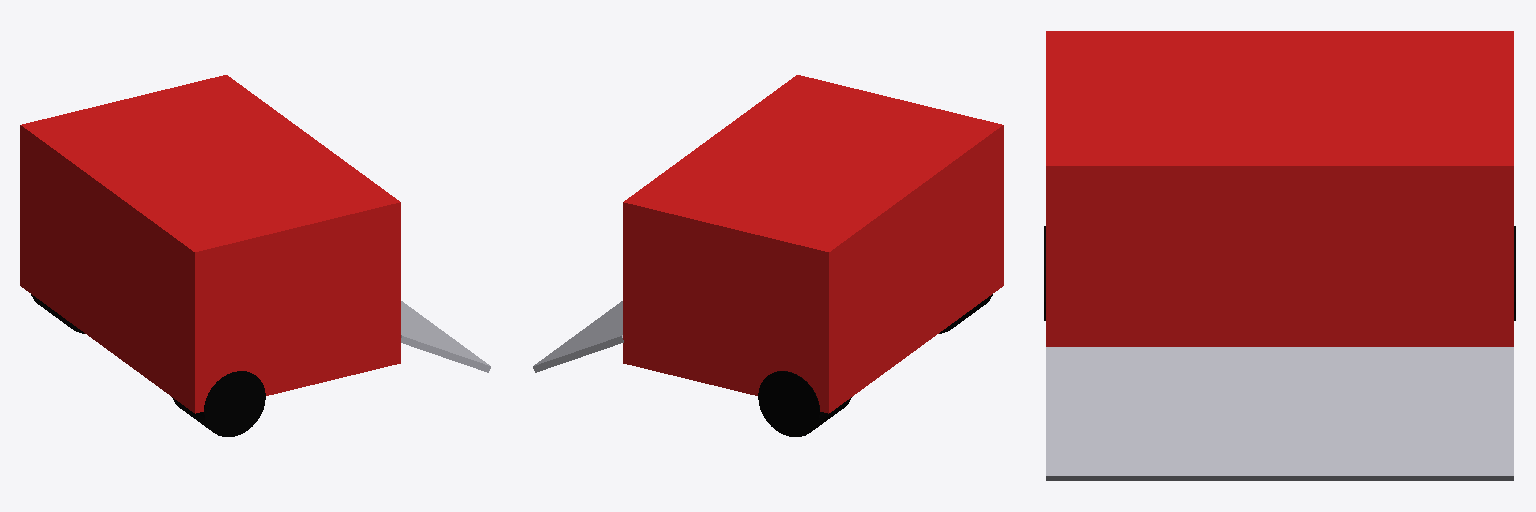
URDF robot description (mini_sumo):
<?xml version="1.0"?>
<!--
  Mini Sumo agent — 400 RPM CAD upgrade with rear line sensors.

  Frame convention:
    base_link origin sits at the centre of the 95.81 × 98 mm footprint,
    on the floor plane. +X is forward, +Y is left, +Z is up.

  Outer dimensions:
    Total length (X) : 95.81 mm  ( front +0.0479, rear -0.0479 )
    Total width  (Y) : 98 mm     ( ±0.049 )
    Total height (Z) : 60 mm
    Chassis box      : 66.9 × 98 × 50 mm  ( -0.0479 ≤ x ≤ +0.019,
                                            z ∈ [0.010, 0.060] )
                       Bottom lifted from z=0 to z=0.010 so the wheels
                       (axle z=0.010, r=0.010, bottom z=0) are the sole
                       ground contact. Chassis has 10 mm of clearance
                       over the wheel-bottom plane.
    Wedge            : 28.82 mm long, slope 0.4 mm tip → 16.6 mm trailing

  Mass / CoM:
    Total                    : 0.45 kg
    CoM (relative to origin) : x = -0.0001 m  (48 mm behind front tip)
                                y = 0
                                z = 0.007 m   (7 mm above floor)

  Wheels:
    Diameter 20 mm (r=0.010), width 19 mm. Track width 79.5 mm
    (axles at y = ±0.03975). Axle z = 0.010, wheel bottom z = 0;
    chassis box bottom sits 10 mm above the wheel-bottom plane so
    the wheels are the only ground contact. Mounted near the rear
    at x = -0.035.

  Line sensors: two QTR mounts at the rear of the chassis bottom face
    (x = -0.02384, y = ±0.0404). These are sampled in sumo_env.py;
    the URDF doesn't model them physically.
-->
<robot name="mini_sumo">

  <!-- ======================== CHASSIS ======================== -->
  <link name="base_link">
    <inertial>
      <!-- CoM 48 mm behind the front tip (= +0.0479 - 0.048 = -0.0001)
           and 7 mm above the floor; mass 0.45 kg. -->
      <origin xyz="-0.0001 0.0 0.007" rpy="0 0 0"/>
      <mass value="0.45"/>
      <!-- Box principal moments at 0.45 kg, dims 0.0669 × 0.098 × 0.050:
           Ixx = (m/12)*(W^2 + H^2) = 4.54e-4
           Iyy = (m/12)*(L^2 + H^2) = 2.62e-4
           Izz = (m/12)*(L^2 + W^2) = 5.28e-4 -->
      <inertia ixx="4.54e-4" ixy="0" ixz="0"
               iyy="2.62e-4" iyz="0"
               izz="5.28e-4"/>
    </inertial>

    <visual>
      <!-- Chassis box centred between the rear face (-0.0479) and the
           wedge boundary (+0.019) -> centre x = -0.01445. Bottom at
           z = 0.010 (10 mm above the wheel-bottom plane) so the wheels
           are the sole ground contact; top stays at z = 0.060. -->
      <origin xyz="-0.01445 0.0 0.035" rpy="0 0 0"/>
      <geometry>
        <box size="0.0669 0.098 0.050"/>
      </geometry>
      <material name="red">
        <color rgba="0.85 0.15 0.15 1.0"/>
      </material>
    </visual>

    <collision>
      <origin xyz="-0.01445 0.0 0.035" rpy="0 0 0"/>
      <geometry>
        <box size="0.0669 0.098 0.050"/>
      </geometry>
    </collision>
  </link>

  <!-- ============== FRONT CASTER (invisible slider) ========== -->
  <link name="front_caster">
    <inertial>
      <origin xyz="0 0 0" rpy="0 0 0"/>
      <mass value="0.001"/>
      <inertia ixx="1e-9" ixy="0" ixz="0"
               iyy="1e-9" iyz="0"
               izz="1e-9"/>
    </inertial>
    <collision>
      <origin xyz="0 0 0" rpy="0 0 0"/>
      <geometry>
        <sphere radius="0.003"/>
      </geometry>
    </collision>
    <contact>
      <lateral_friction value="0.0"/>
      <rolling_friction value="0.0"/>
      <spinning_friction value="0.0"/>
    </contact>
  </link>

  <joint name="front_caster_joint" type="fixed">
    <parent link="base_link"/>
    <child  link="front_caster"/>
    <!-- Just behind the wedge mount, under the chassis bottom edge so
         the chassis nose can't snag if it tips forward. -->
    <origin xyz="0.015 0.0 0.003" rpy="0 0 0"/>
  </joint>

  <!-- ====================== NOSE WEDGE ======================= -->
  <!-- Slab geometry (in body frame):
         trailing edge (top, joins chassis) : x = +0.019,   z ≈ 0.0166
         leading edge (sharp tip)           : x = +0.0479,  z ≈ 0.0004
         slope length  = sqrt(28.82^2 + 16.2^2) = 33.13 mm
         pitch (about Y) = atan2(16.2, 28.82) = 0.5113 rad (~29.3 deg) -->
  <link name="nose_wedge">
    <inertial>
      <origin xyz="0 0 0" rpy="0 0 0"/>
      <mass value="0.02"/>
      <!-- Slab inertia for box (0.03313 × 0.098 × 0.002), m=0.02.
           Iyy bumped from computed 1.8e-6 to 2.5e-6 to give margin
           under PyBullet's strict triangle inequality. -->
      <inertia ixx="1.612e-5" ixy="0" ixz="0"
               iyy="2.5e-6"   iyz="0"
               izz="1.834e-5"/>
    </inertial>

    <visual>
      <origin xyz="0 0 0" rpy="0 0 0"/>
      <geometry>
        <!-- slope-length × chassis-width × thin -->
        <box size="0.03313 0.098 0.002"/>
      </geometry>
      <material name="silver">
        <color rgba="0.75 0.75 0.78 1.0"/>
      </material>
    </visual>

    <collision>
      <origin xyz="0 0 0" rpy="0 0 0"/>
      <geometry>
        <box size="0.03313 0.098 0.002"/>
      </geometry>
    </collision>

    <contact>
      <!-- Run-7 fix: bumped 0.3 -> 0.7. The previous "slick face" rationale
           ("slide under, don't grab") was wrong: low friction means the
           agent's wedge slides up over the opponent without transmitting
           horizontal push, so its momentum carries it off the dohyo
           (test_full_charge.py at torque_mult=0.7 produced 72% self-outs).
           0.7 matches typical machined-aluminum-on-aluminum coefficient
           and is symmetric with novamax.urdf for fair contests. -->
      <lateral_friction value="0.7"/>
    </contact>
  </link>

  <joint name="nose_wedge_joint" type="fixed">
    <parent link="base_link"/>
    <child  link="nose_wedge"/>
    <!-- Slab centre at the midpoint of trailing and leading edges, rotated
         so its long axis runs down-slope. Origin z = 0.0094 places the
         leading-edge bottom corner at z ≈ 0.0004 (the spec'd lowest Z). -->
    <origin xyz="0.03345 0.0 0.0094" rpy="0 0.5113 0"/>
  </joint>

  <!-- ===================== LEFT WHEEL ======================== -->
  <link name="left_wheel">
    <inertial>
      <origin xyz="0 0 0" rpy="0 0 0"/>
      <mass value="0.025"/>
      <!-- Cylinder, r=0.010, h=0.019, axis along link +Y after the
           90 deg roll:
             Iyy (rolling)        = 0.5*m*r^2                = 1.25e-6
             Ixx = Izz            = (m/12)*(3*r^2 + h^2)     = 1.378e-6 -->
      <inertia ixx="1.378e-6" ixy="0" ixz="0"
               iyy="1.25e-6"  iyz="0"
               izz="1.378e-6"/>
    </inertial>

    <visual>
      <origin xyz="0 0 0" rpy="1.5708 0 0"/>
      <geometry>
        <cylinder radius="0.010" length="0.019"/>
      </geometry>
      <material name="black">
        <color rgba="0.05 0.05 0.05 1.0"/>
      </material>
    </visual>

    <collision>
      <origin xyz="0 0 0" rpy="1.5708 0 0"/>
      <geometry>
        <cylinder radius="0.010" length="0.019"/>
      </geometry>
    </collision>

    <contact>
      <lateral_friction value="1.0"/>
    </contact>
  </link>

  <joint name="left_wheel_joint" type="continuous">
    <parent link="base_link"/>
    <child  link="left_wheel"/>
    <!-- Axle 35 mm behind centre, +39.75 mm to the left, 10 mm above
         floor so the chassis rides very low. -->
    <origin xyz="-0.035 0.03975 0.010" rpy="0 0 0"/>
    <axis xyz="0 1 0"/>
  </joint>

  <!-- ===================== RIGHT WHEEL ======================= -->
  <link name="right_wheel">
    <inertial>
      <origin xyz="0 0 0" rpy="0 0 0"/>
      <mass value="0.025"/>
      <inertia ixx="1.378e-6" ixy="0" ixz="0"
               iyy="1.25e-6"  iyz="0"
               izz="1.378e-6"/>
    </inertial>

    <visual>
      <origin xyz="0 0 0" rpy="1.5708 0 0"/>
      <geometry>
        <cylinder radius="0.010" length="0.019"/>
      </geometry>
      <material name="black"/>
    </visual>

    <collision>
      <origin xyz="0 0 0" rpy="1.5708 0 0"/>
      <geometry>
        <cylinder radius="0.010" length="0.019"/>
      </geometry>
    </collision>

    <contact>
      <lateral_friction value="1.0"/>
    </contact>
  </link>

  <joint name="right_wheel_joint" type="continuous">
    <parent link="base_link"/>
    <child  link="right_wheel"/>
    <origin xyz="-0.035 -0.03975 0.010" rpy="0 0 0"/>
    <axis xyz="0 1 0"/>
  </joint>

</robot>

--- Render facts (derived) ---
The picture shows the robot from 3 angles, left to right: view 1: azimuth 30°, elevation 25°; view 2: azimuth 150°, elevation 25°; view 3: azimuth 270°, elevation 25°; orthographic projection.
Robot: mini_sumo — 5 links, 4 joints (2 continuous, 2 fixed); root link base_link; default pose: every joint at zero.
Links seen in each view (by area): view 1: base_link, right_wheel, nose_wedge; view 2: base_link, left_wheel, nose_wedge; view 3: base_link, nose_wedge.
Boxes of the visible links, left/top/right/bottom form: base_link: left=20, top=75, right=400, bottom=413; right_wheel: left=172, top=371, right=265, bottom=436; nose_wedge: left=401, top=301, right=490, bottom=372; base_link: left=623, top=75, right=1003, bottom=413; left_wheel: left=758, top=371, right=851, bottom=436; nose_wedge: left=533, top=301, right=623, bottom=372; base_link: left=1046, top=31, right=1513, bottom=346; nose_wedge: left=1046, top=347, right=1513, bottom=480.
Size in the robot's own frame: 0.0963 by 0.0985 by 0.06 metres.
Geometry: primitives only (box / cylinder / sphere), no mesh files.
